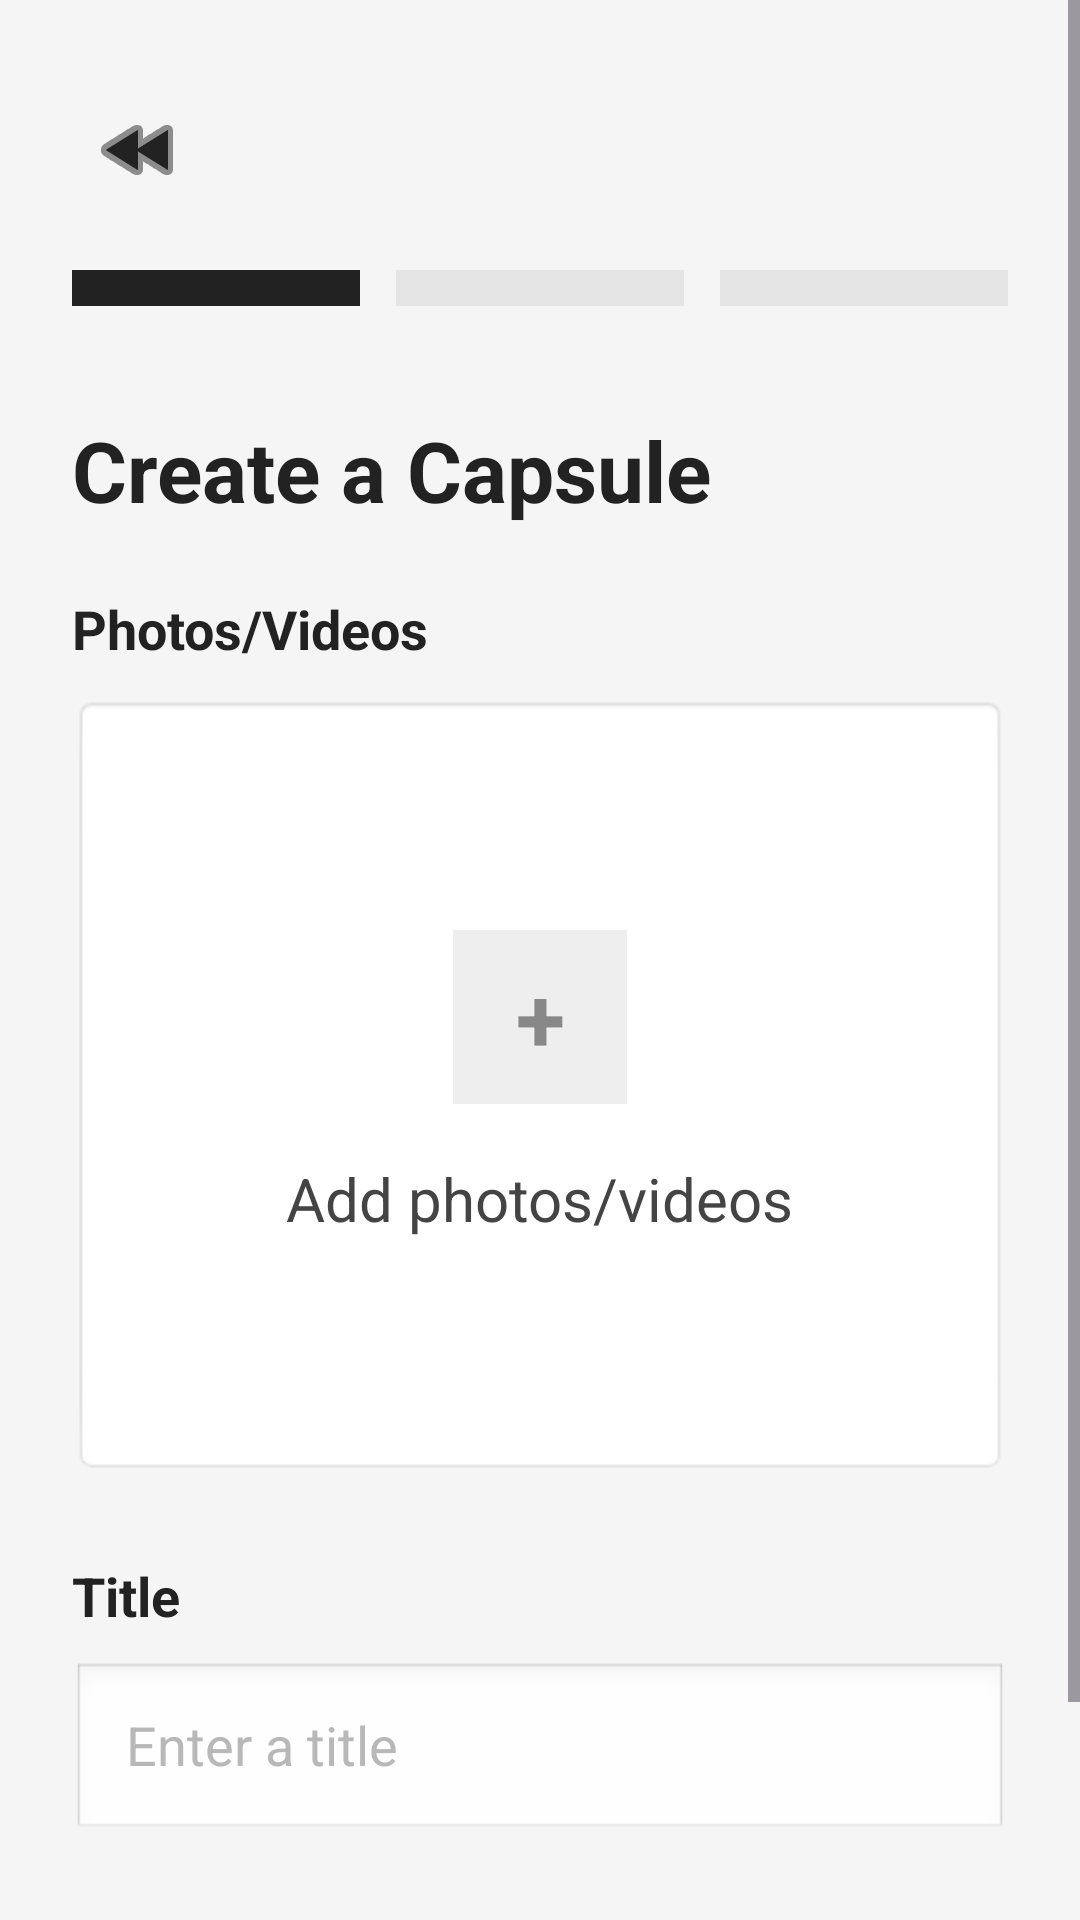

Named icons in this screenshot (1080*1920) and their bounding boxes, (x1, y1, x2, y2):
rew: (101, 125, 173, 175)
